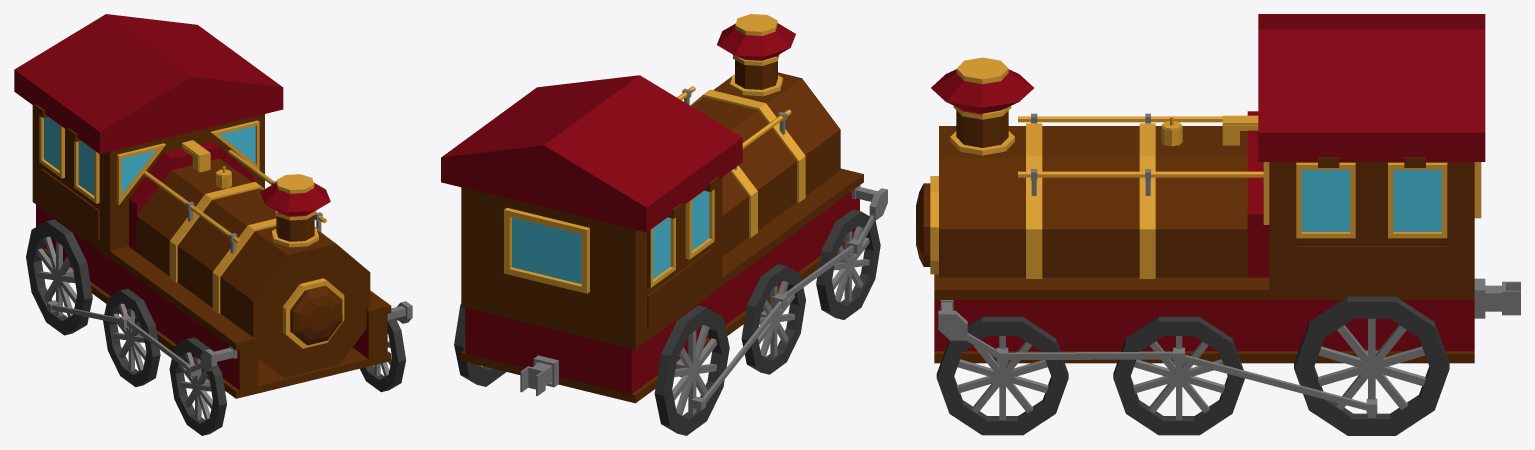
Rendered from TrainRed.fbx.
The picture shows the model from 3 angles, left to right: view 1: azimuth 30°, elevation 25°; view 2: azimuth 150°, elevation 25°; view 3: azimuth 270°, elevation 25°; orthographic projection. The views are drawn at different scales.
Visible parts, largest first — view 1: Plane.002; view 2: Plane.002; view 3: Plane.002.
Part boxes in pixels (x1=…): Plane.002: x1=14, y1=14, x2=412, y2=435; Plane.002: x1=441, y1=14, x2=887, y2=435; Plane.002: x1=916, y1=14, x2=1520, y2=435.
Size of the model in its own units: 145 by 180 by 285.
